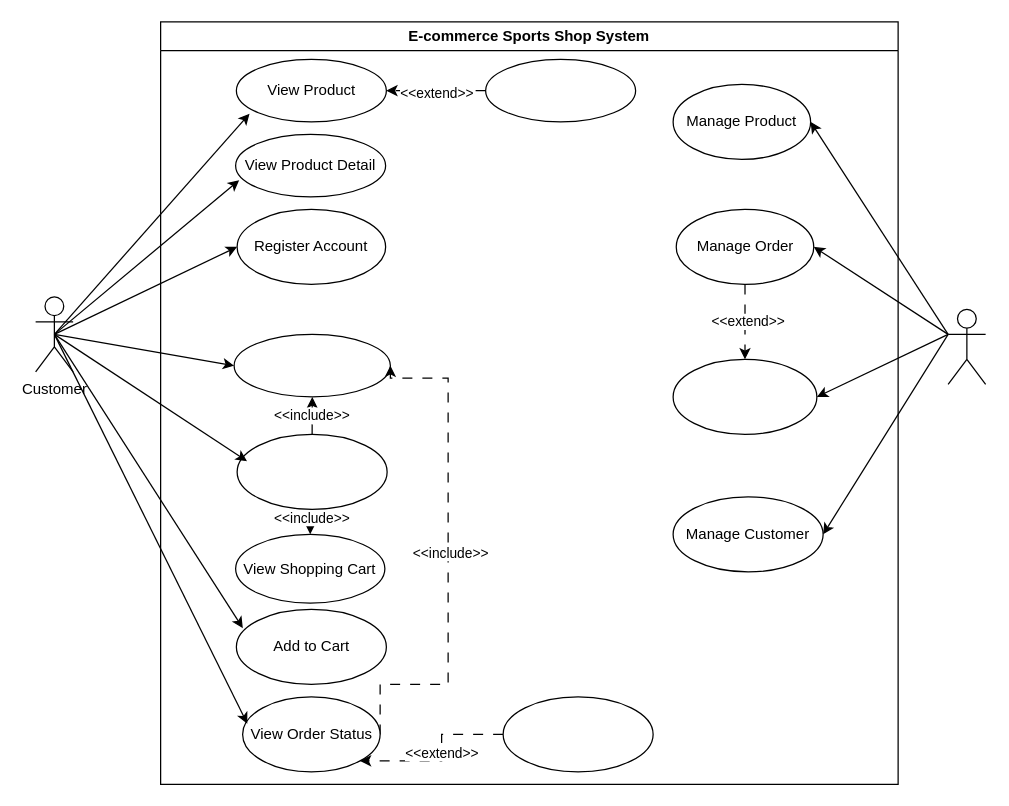
The diagram is 1009 pixels wide and 806 high, and some of its shapes have lost their labels. The shapes that lost their labels are listed below. From the top down, each one's centre as x and y in pixels, then its label:
[560,90]: Search/Filter Prodduct
[311,365]: Login
[966,346]: Admin
[744,396]: View Order Details
[311,471]: Place Order
[577,734]: cancel order
